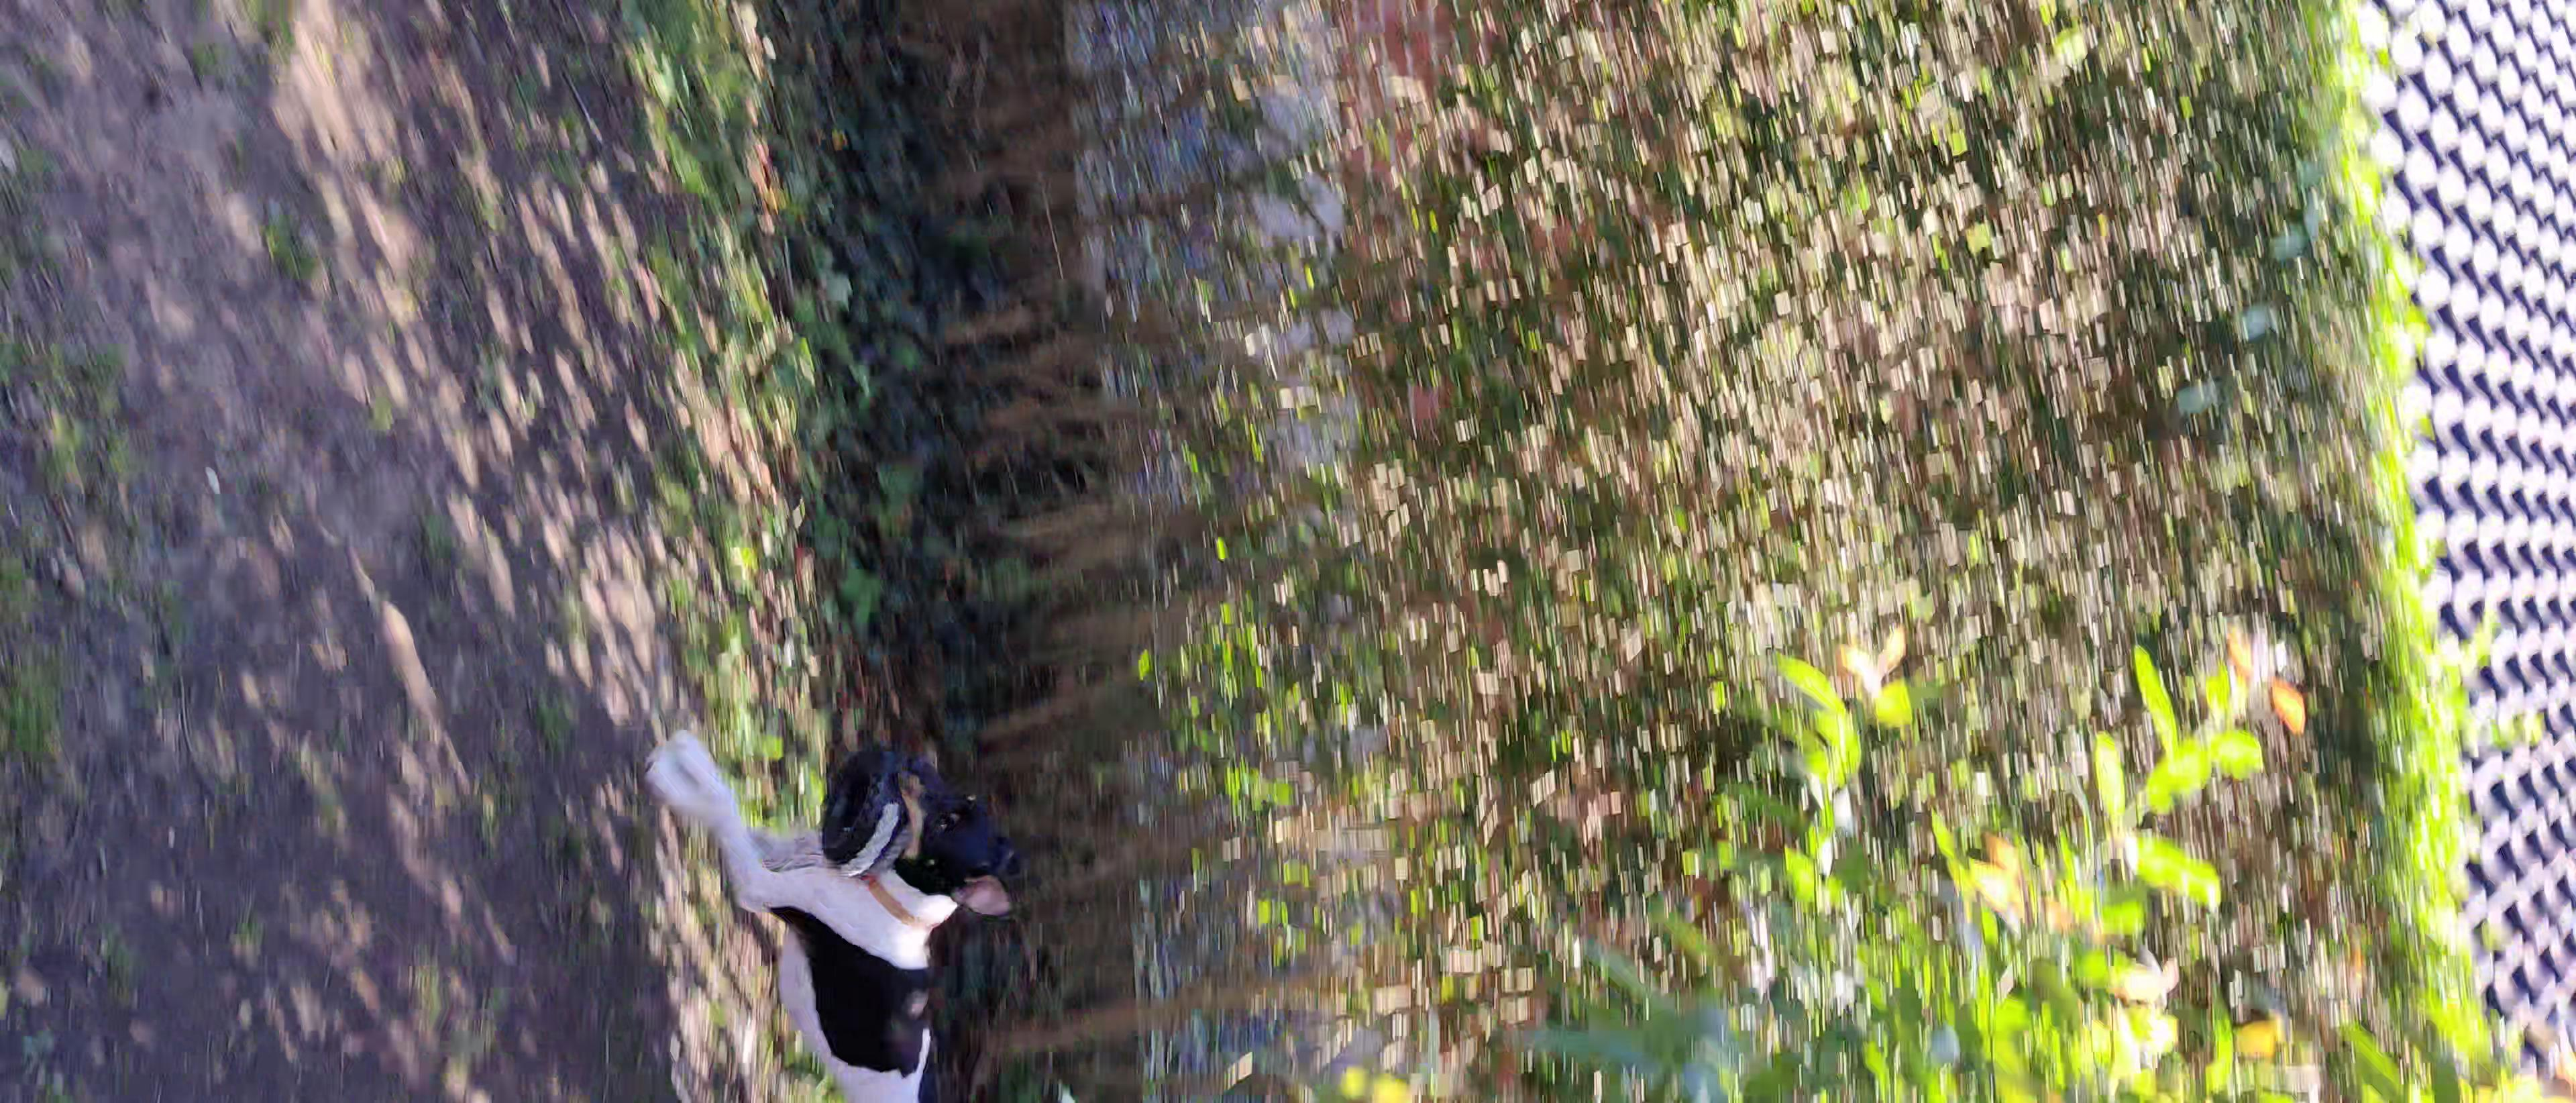Dog: (637, 708, 1030, 1103)
